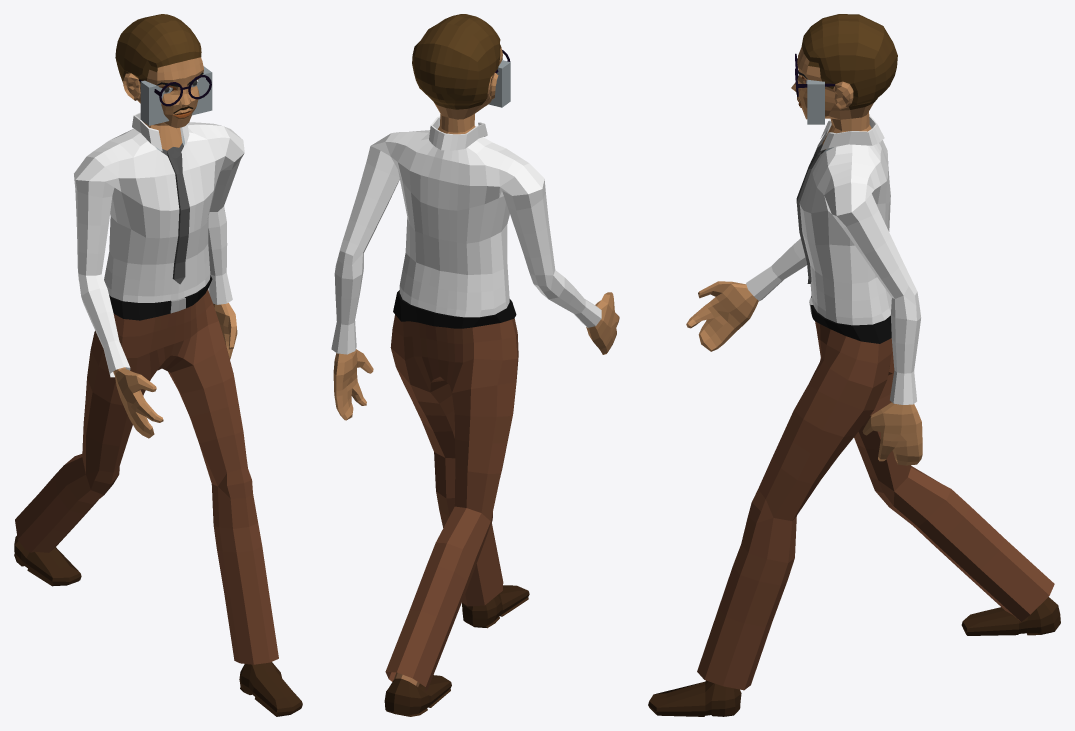
The model's file is TeacherMale_A_Walk_Mask.fbx.
The picture shows the model from 3 angles, left to right: view 1: azimuth 30°, elevation 25°; view 2: azimuth 150°, elevation 25°; view 3: azimuth 270°, elevation 25°; orthographic projection. The views are drawn at different scales.
Visible parts, largest first — view 1: TeacherMale_A_Walk_Mask; view 2: TeacherMale_A_Walk_Mask; view 3: TeacherMale_A_Walk_Mask.
Boxes of the visible parts, left/top/right/bottom form: TeacherMale_A_Walk_Mask: left=14, top=14, right=302, bottom=716; TeacherMale_A_Walk_Mask: left=331, top=14, right=619, bottom=716; TeacherMale_A_Walk_Mask: left=648, top=14, right=1060, bottom=716.
Size of the model in its own units: 0.2883 by 0.9178 by 0.5099.
